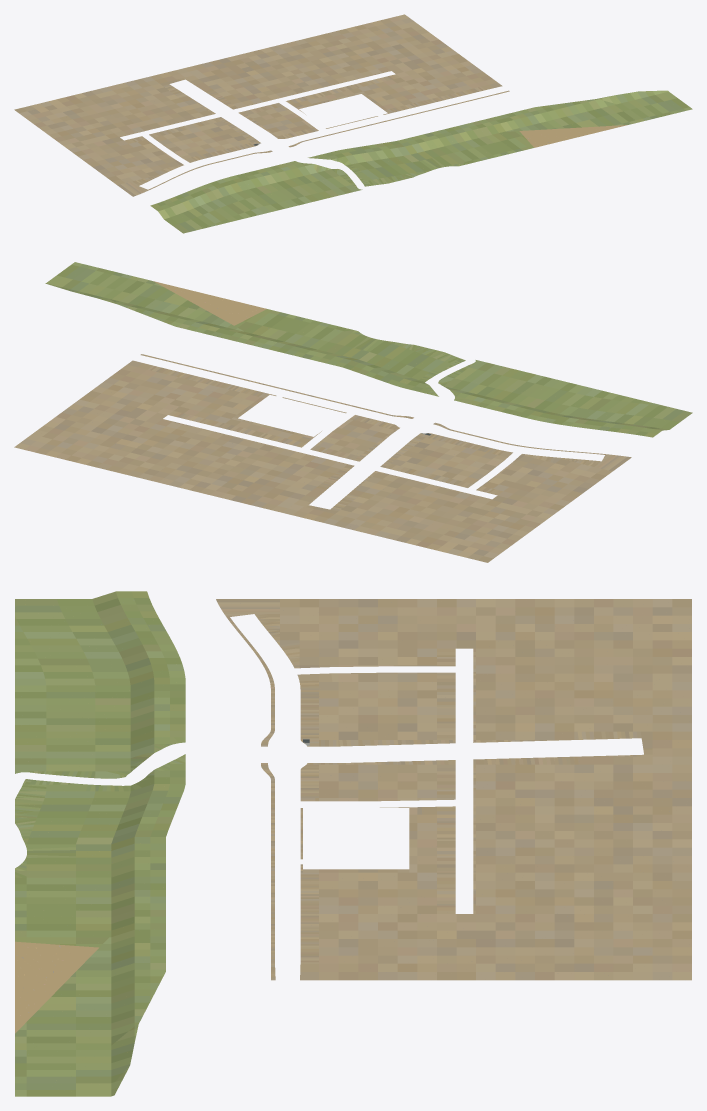
Rendered from ART_KyobashiLand.glb.
3 renders of one model, top to bottom at view 1: azimuth 30°, elevation 25°; view 2: azimuth 150°, elevation 25°; view 3: azimuth 270°, elevation 25°, orthographic. The views are drawn at different scales.
Visible parts, largest first — view 1: ART_KyobashiLand; view 2: ART_KyobashiLand; view 3: ART_KyobashiLand.
Part boxes in pixels (x1,y1,x2,y2): ART_KyobashiLand: (14,14,692,233); ART_KyobashiLand: (14,262,692,562); ART_KyobashiLand: (15,591,691,1096).
Bounding box in the file's own units: 600 × 4.21 × 345.
